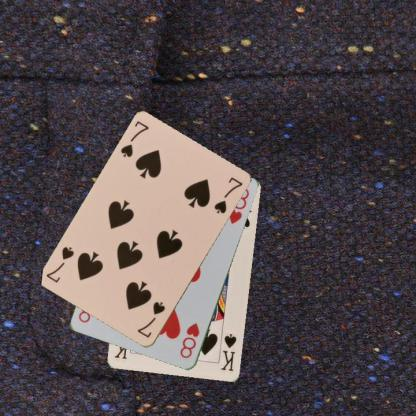7s: (118, 118, 150, 160), (135, 299, 167, 340)
8h: (177, 320, 201, 360)
Ks: (218, 331, 238, 374)
